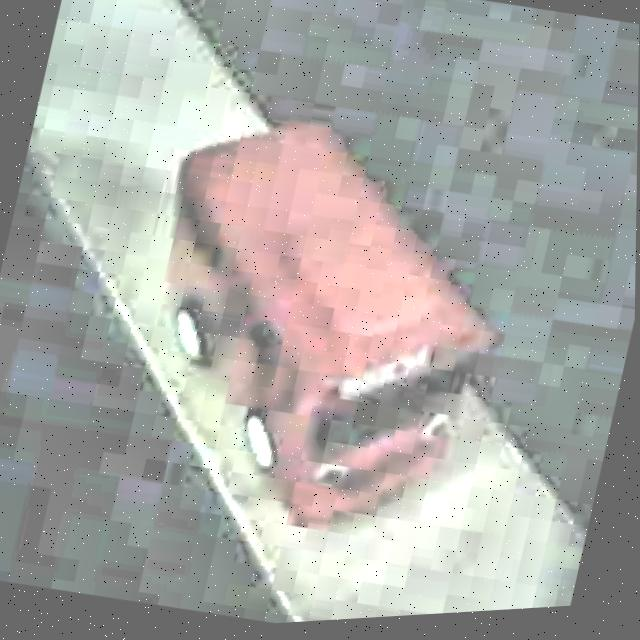bus: (101, 77, 530, 567)
